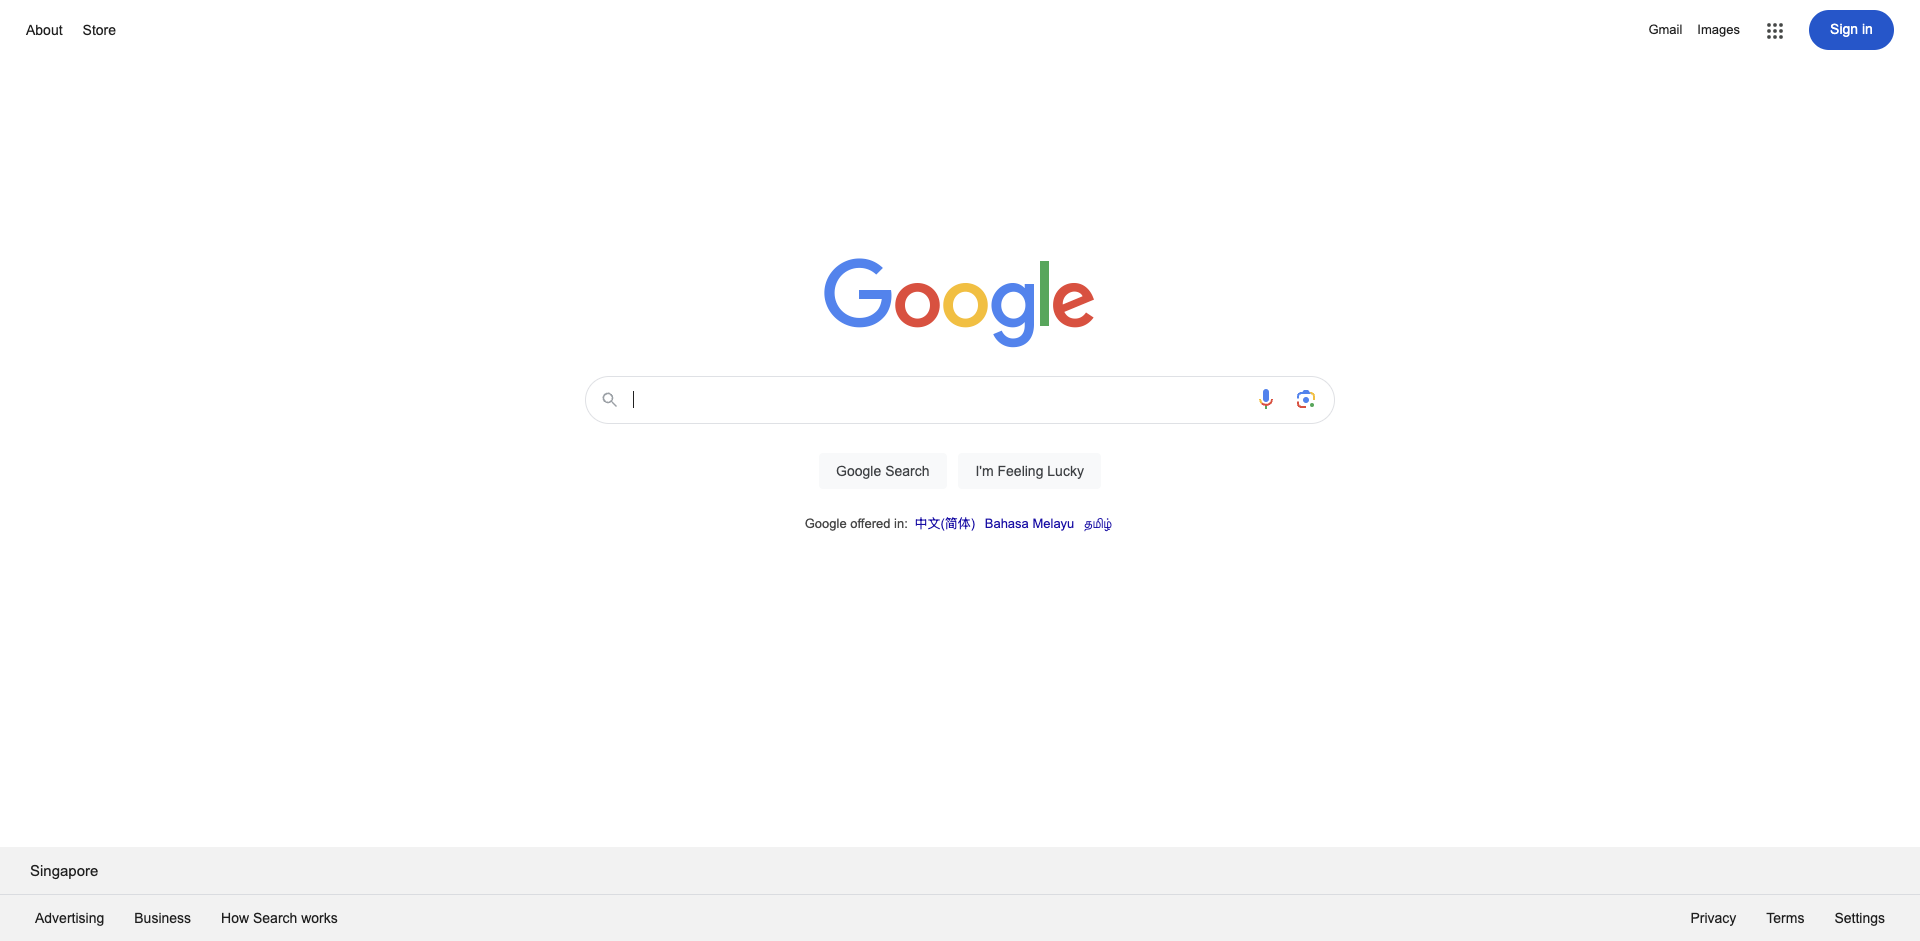button: (1820, 894, 1900, 941), (1286, 377, 1326, 421), (1247, 377, 1286, 421), (1755, 11, 1795, 50)
input: (959, 453, 1101, 489), (819, 453, 947, 489)
link: (206, 894, 353, 941), (20, 894, 119, 941), (119, 894, 206, 941), (1675, 894, 1751, 941), (1809, 10, 1894, 50), (1751, 894, 1820, 941), (982, 516, 1078, 531), (21, 17, 67, 43), (77, 17, 121, 43), (1697, 18, 1740, 42), (911, 516, 978, 531), (1648, 18, 1682, 42), (1081, 516, 1116, 531)
textarea: (633, 377, 1242, 423)
